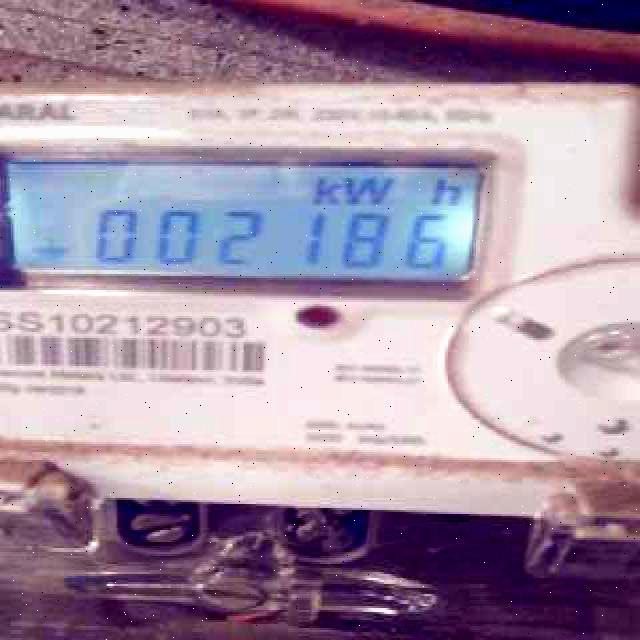LCD: (5, 144, 505, 306)
